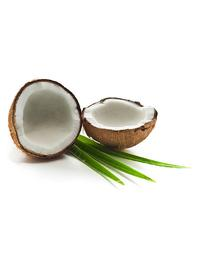coconut: (8, 79, 82, 160), (81, 97, 158, 150)
